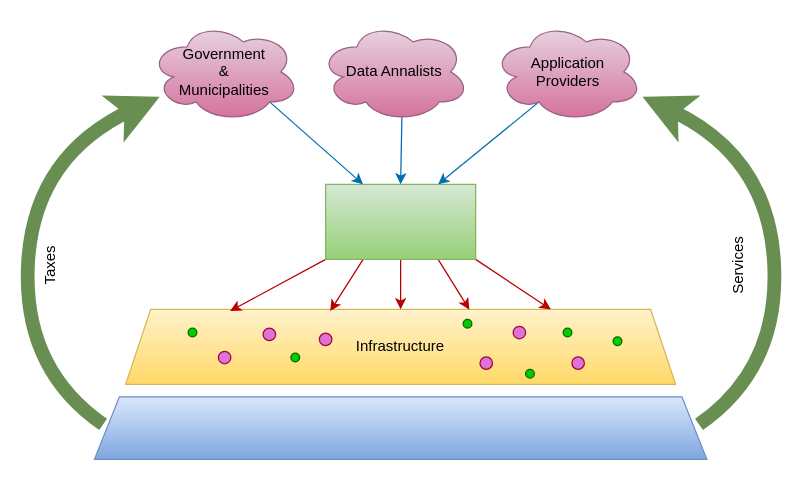
Some shapes in this 804 by 481 pixel diagram are drawn without their labels. The centre of each missing label's shape, as x and y in pixels:
"Funding Pool" belongs at point 400,221.
"Users" belongs at point 400,427.
